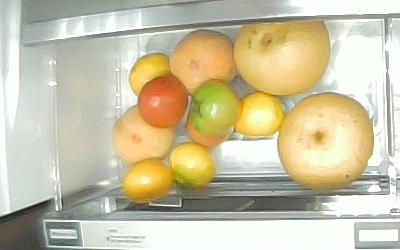peach: (168, 29, 236, 94), (111, 103, 175, 163)
pear: (276, 91, 373, 189), (232, 18, 330, 95)
tangerine: (168, 141, 215, 191), (122, 158, 173, 203), (234, 91, 285, 136), (127, 51, 169, 97)
tomato: (189, 79, 241, 135), (136, 75, 189, 128)
